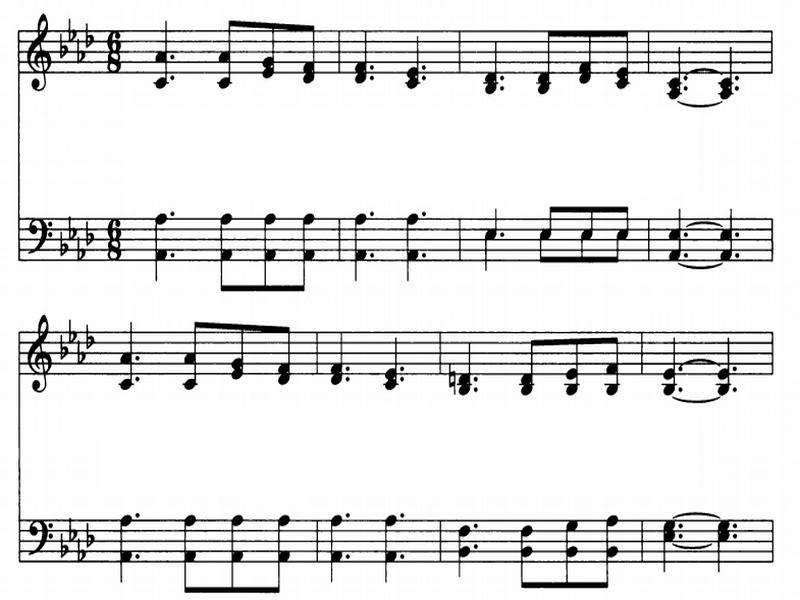Bem: (51, 232, 72, 272), (55, 533, 71, 561), (51, 338, 70, 361), (70, 39, 88, 63), (72, 240, 89, 264), (80, 26, 97, 49), (63, 18, 81, 37), (83, 219, 97, 243), (57, 34, 70, 58), (64, 213, 76, 238), (83, 322, 96, 344), (85, 518, 95, 545), (67, 518, 77, 542), (66, 330, 80, 344), (77, 546, 87, 565), (76, 349, 83, 364)
C: (264, 504, 308, 596), (198, 7, 243, 93), (289, 206, 325, 296), (523, 24, 564, 98), (593, 508, 627, 594), (250, 2, 285, 82), (180, 507, 211, 595), (252, 208, 283, 294), (554, 504, 584, 592), (223, 509, 251, 597), (181, 299, 206, 397), (516, 327, 550, 398), (214, 204, 237, 299), (558, 331, 591, 395), (269, 312, 295, 391), (297, 9, 322, 87), (221, 322, 250, 384), (615, 12, 634, 104), (604, 325, 627, 396), (576, 21, 597, 88), (513, 520, 533, 590), (530, 226, 561, 268), (617, 201, 641, 241), (537, 205, 562, 238), (578, 231, 599, 265), (581, 208, 602, 239), (613, 227, 629, 264)
CF: (25, 508, 55, 574), (24, 211, 53, 264)
CS: (19, 309, 57, 405), (27, 7, 50, 94)
N: (139, 6, 168, 101), (341, 4, 368, 95), (107, 313, 135, 398), (339, 202, 367, 284), (397, 196, 421, 284), (322, 505, 344, 584), (321, 322, 345, 393), (377, 499, 396, 584), (147, 208, 167, 283), (715, 196, 737, 264), (711, 331, 732, 401), (450, 514, 473, 576), (661, 321, 679, 399), (716, 39, 737, 101), (709, 511, 729, 570), (658, 509, 677, 570), (403, 26, 420, 94), (668, 33, 684, 105), (382, 331, 399, 394), (117, 509, 131, 584), (477, 200, 502, 241), (480, 39, 497, 99), (668, 201, 682, 268), (457, 332, 471, 398), (474, 229, 495, 270)
P: (366, 248, 386, 270), (418, 206, 440, 226), (397, 364, 414, 384), (419, 248, 437, 264), (368, 65, 387, 80), (132, 507, 146, 525), (498, 70, 514, 85), (728, 364, 746, 377), (167, 203, 179, 222), (729, 531, 744, 546), (397, 553, 414, 566), (497, 228, 512, 242), (132, 549, 146, 564), (133, 351, 149, 364), (371, 74, 384, 89), (467, 374, 482, 387), (342, 360, 354, 376), (396, 511, 410, 524), (168, 49, 180, 64), (673, 364, 685, 379), (164, 247, 179, 259), (680, 248, 696, 259), (729, 518, 739, 535), (676, 383, 688, 397), (343, 512, 357, 524), (134, 374, 148, 386), (341, 374, 357, 384), (165, 72, 178, 84), (680, 232, 693, 244), (338, 552, 357, 560), (420, 73, 433, 84), (728, 86, 739, 98), (730, 75, 743, 85), (367, 210, 383, 218), (681, 75, 692, 86), (737, 253, 748, 264), (418, 64, 430, 74), (732, 228, 742, 240), (677, 523, 687, 535), (728, 383, 741, 392), (400, 374, 409, 387), (686, 253, 696, 264), (467, 384, 478, 394), (680, 86, 692, 95), (499, 84, 509, 94), (676, 534, 688, 542), (470, 543, 478, 553), (472, 524, 477, 534)
SOS: (444, 357, 460, 400)
